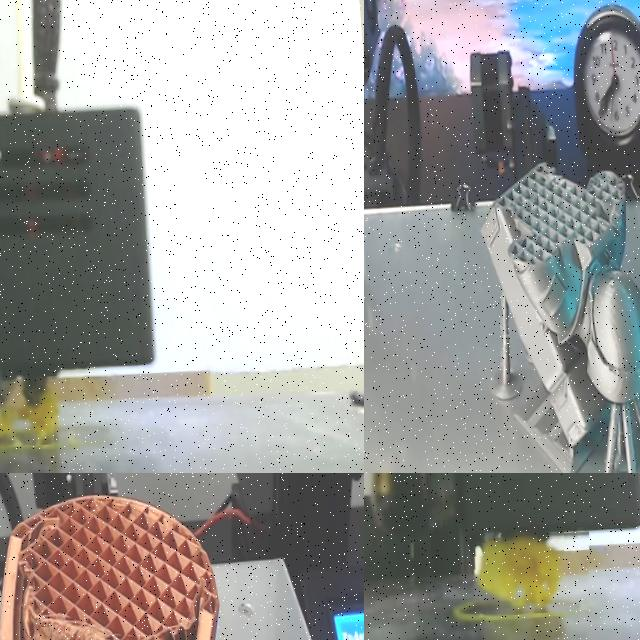spaghetti: (469, 528, 594, 618), (0, 382, 55, 447)
